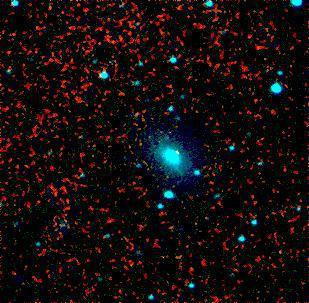star: (163, 137, 193, 167)
